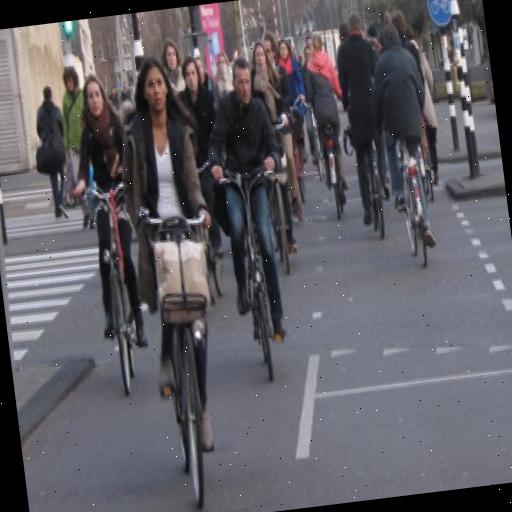no helmet: (97, 38, 253, 468), (200, 46, 303, 344), (56, 60, 153, 351), (359, 6, 450, 266)
